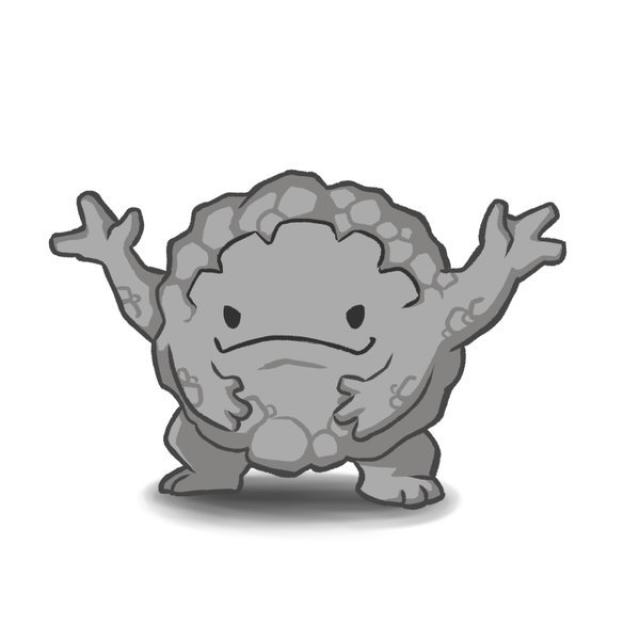Graveler: (94, 174, 525, 512)
